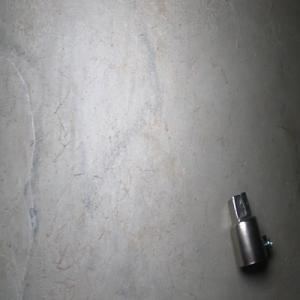MetalPart: (226, 190, 273, 268)
